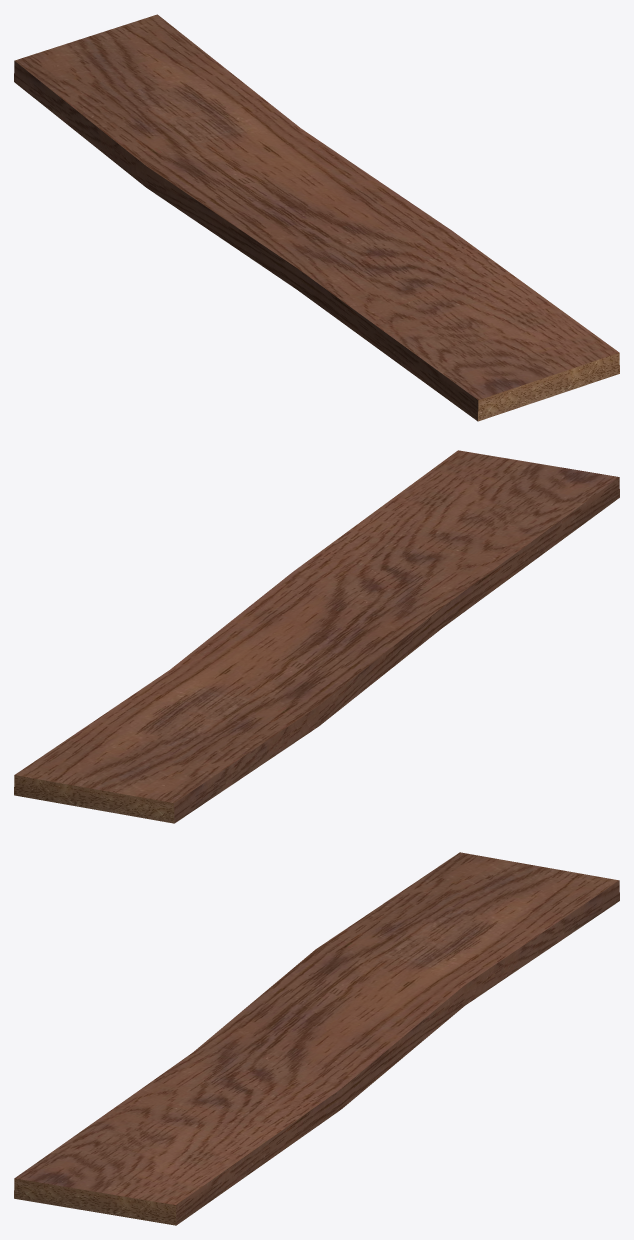
The model's file is plankasset.fbx.
The picture shows the model from 3 angles, top to bottom: view 1: azimuth 30°, elevation 25°; view 2: azimuth 150°, elevation 25°; view 3: azimuth 330°, elevation 25°; orthographic projection. The views are drawn at different scales.
Parts seen in each view (by area): view 1: plank; view 2: plank; view 3: plank.
Boxes of the visible parts, x1,y1,x2,y2 form: plank: [14, 14, 619, 421]; plank: [14, 450, 619, 823]; plank: [14, 852, 619, 1225].
Size of the model in its own units: 2.04 by 0.2803 by 10.07.
1 material, 1 textured.
